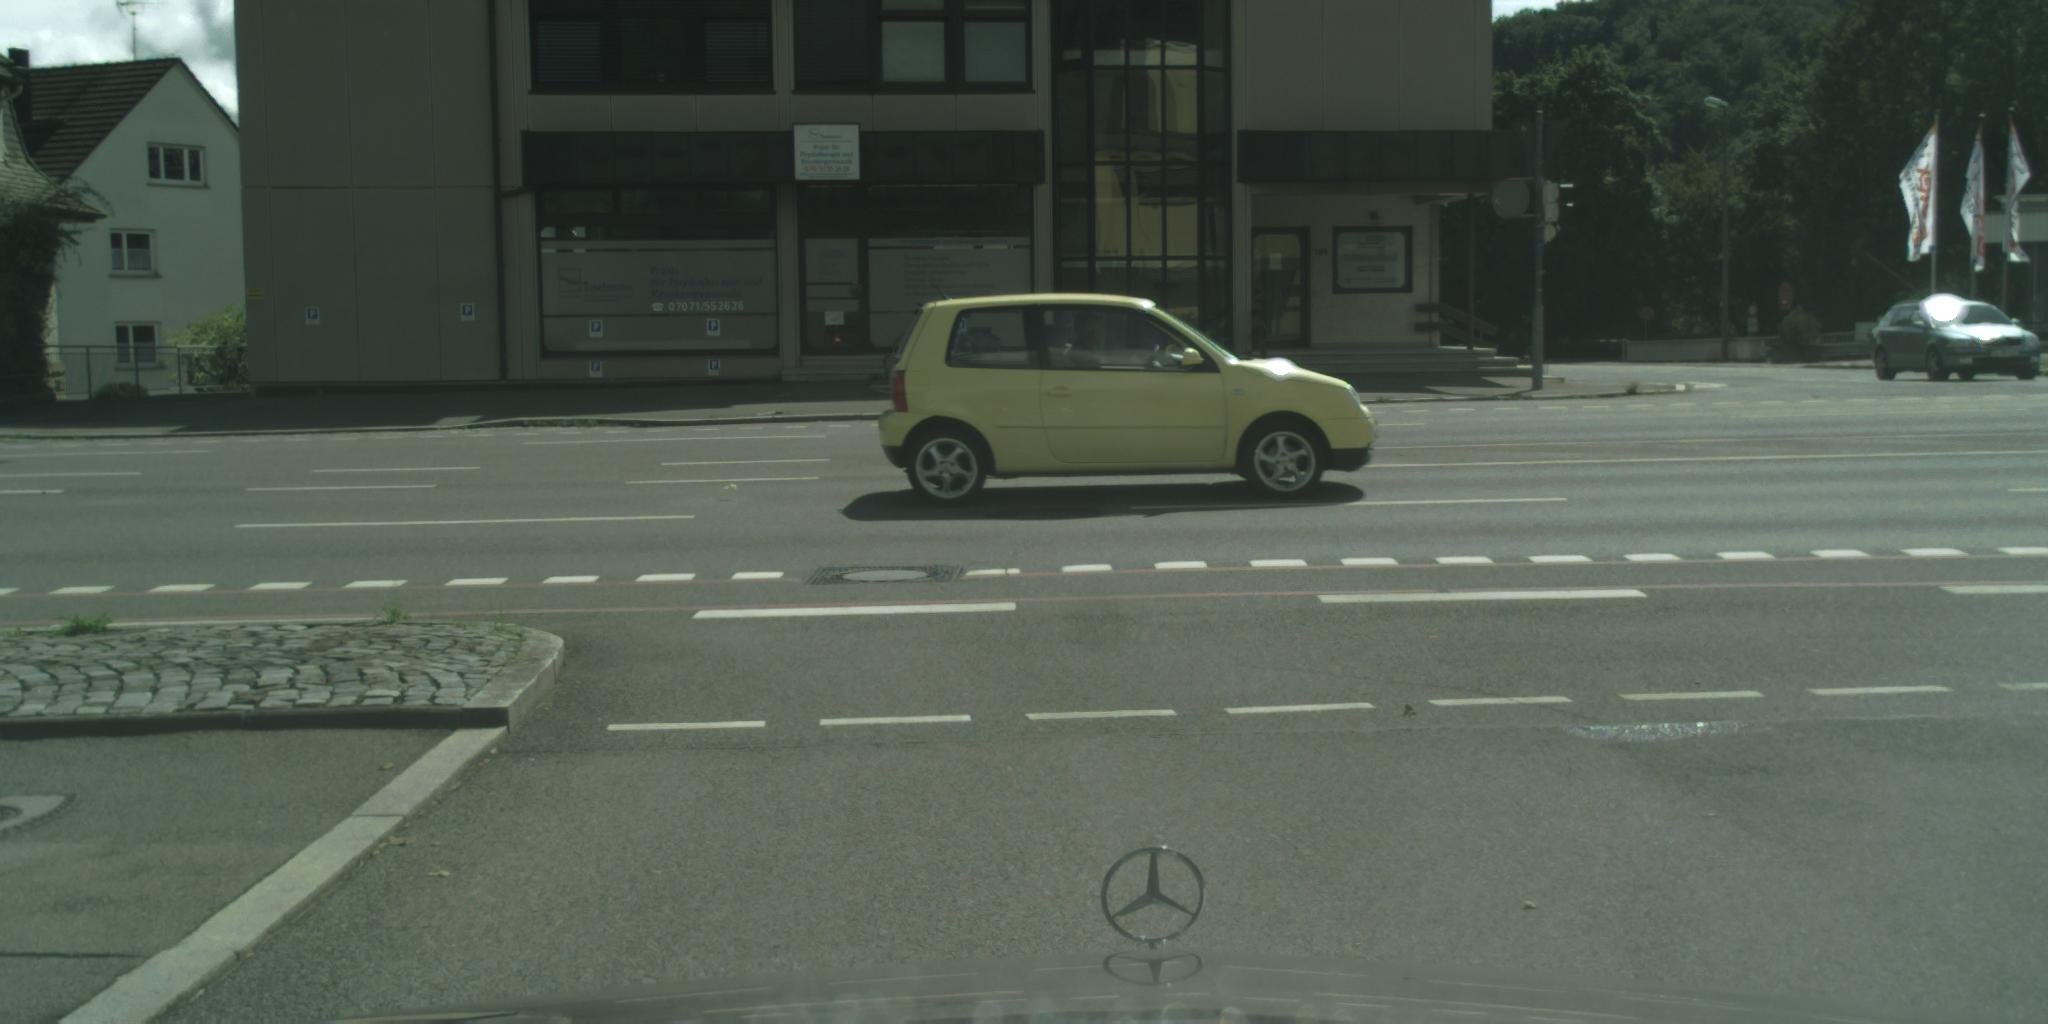car: (879, 293, 1381, 505), (1872, 296, 2041, 381)
